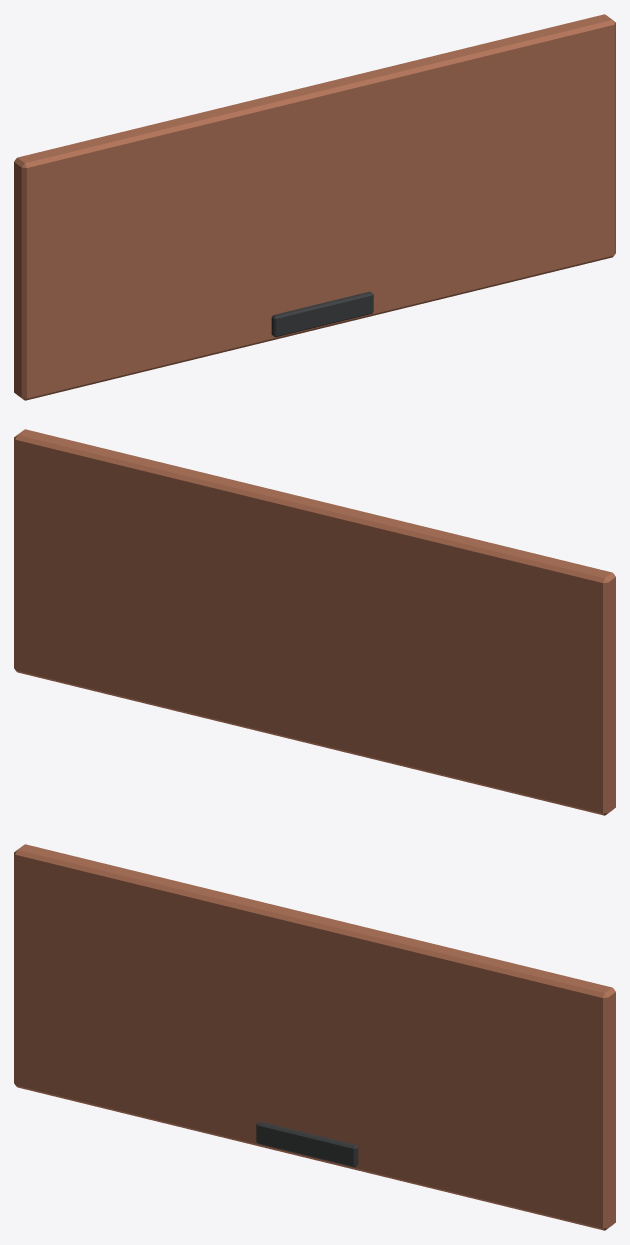
File: conference_table_cable_lid.glb
The picture shows the model from 3 angles, top to bottom: view 1: azimuth 30°, elevation 25°; view 2: azimuth 150°, elevation 25°; view 3: azimuth 330°, elevation 25°; orthographic projection.
Visible parts, largest first — view 1: export_tmp; view 2: export_tmp; view 3: export_tmp.
Boxes of the visible parts, x1=… form: export_tmp: x1=14, y1=14, x2=615, y2=400; export_tmp: x1=14, y1=429, x2=615, y2=815; export_tmp: x1=14, y1=844, x2=615, y2=1230.
Size of the model in its own units: 0.356 by 0.136 by 0.016.
